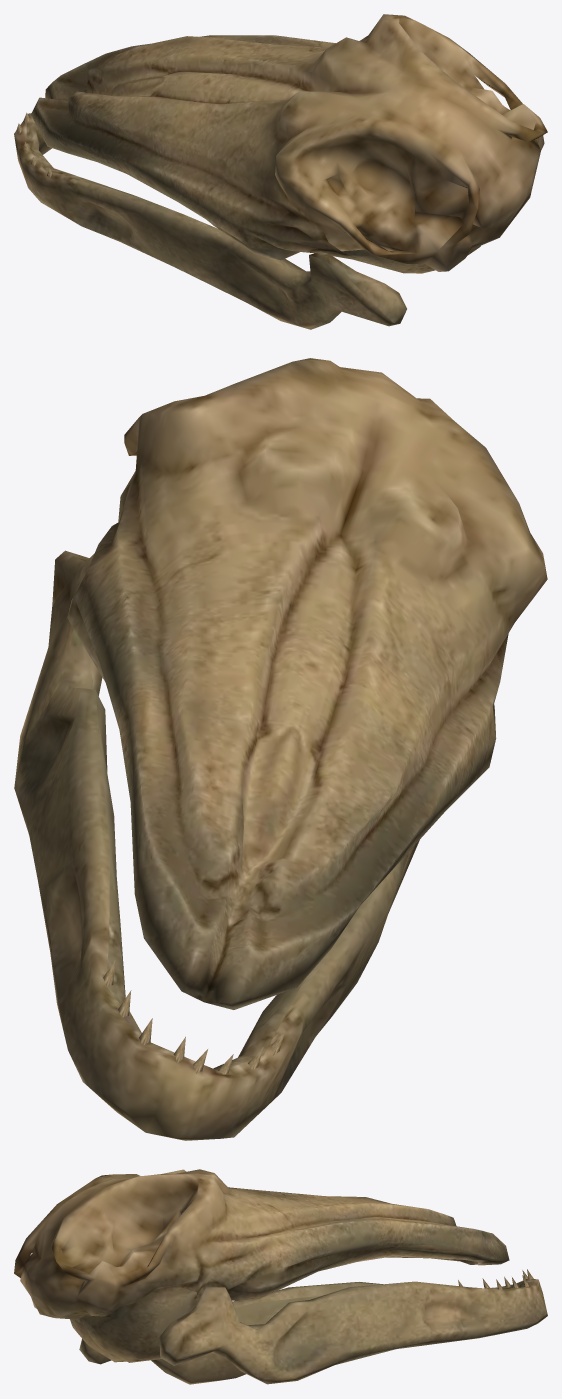
Rendered from O_mdl_env_propWhaleSkeletonA_c-transformed.glb.
The picture shows the model from 3 angles, top to bottom: view 1: azimuth 30°, elevation 25°; view 2: azimuth 150°, elevation 25°; view 3: azimuth 270°, elevation 25°; orthographic projection. The views are drawn at different scales.
Parts seen in each view (by area): view 1: default; view 2: default; view 3: default.
Part boxes in pixels (x1,y1,x2,y2): default: (14, 14, 547, 329); default: (14, 358, 547, 1140); default: (14, 1169, 547, 1384).
Bounding box in the file's own units: 4.32 × 3.75 × 7.35.
Materials: 1 (1 with a texture image).
